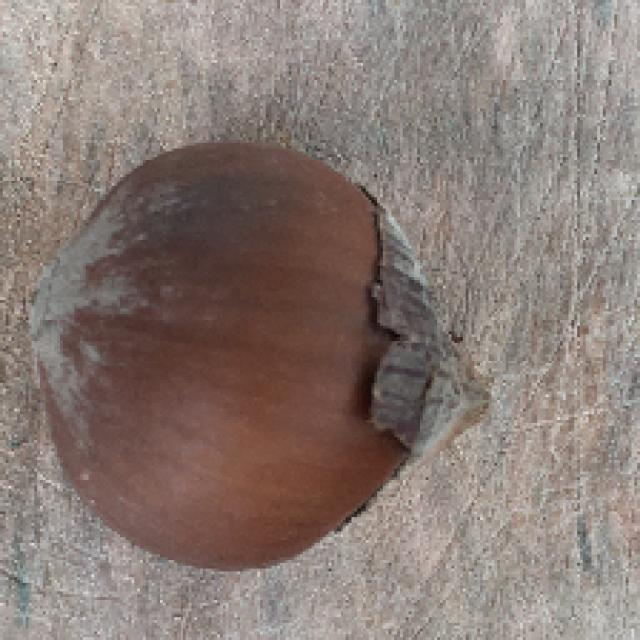DamagedHazelnut: (30, 141, 501, 575)
